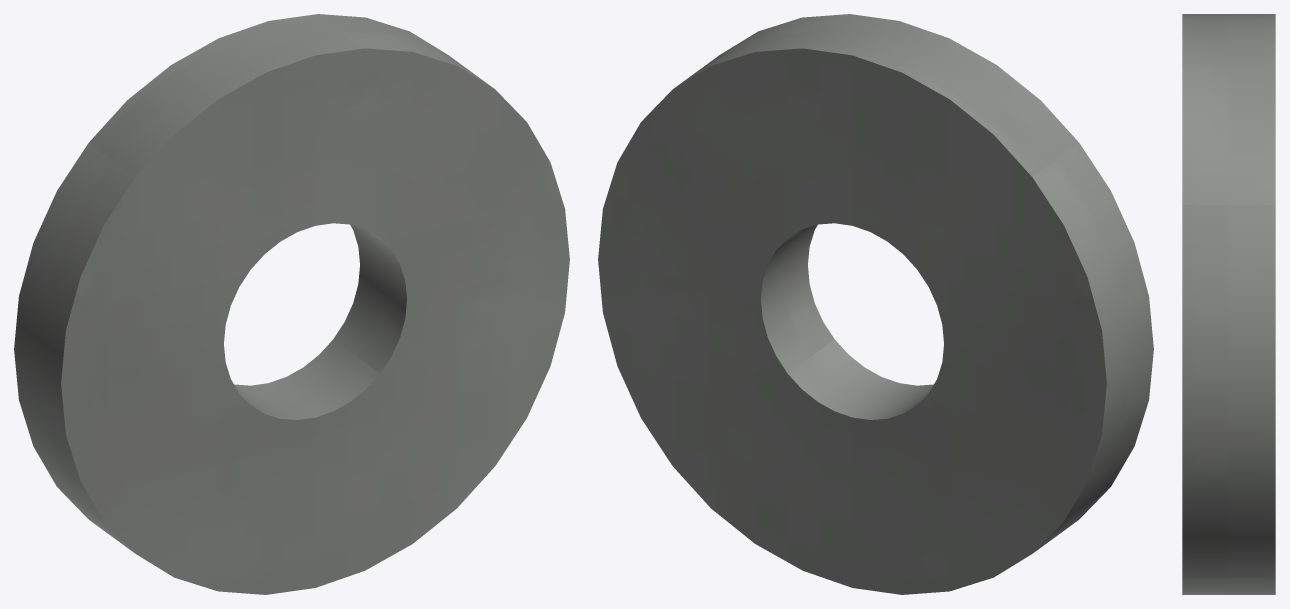
Rendered from EST-ARM-003_lod1.glb.
The picture shows the model from 3 angles, left to right: view 1: azimuth 30°, elevation 25°; view 2: azimuth 150°, elevation 25°; view 3: azimuth 270°, elevation 25°; orthographic projection.
Parts seen in each view (by area): view 1: EST-ARM-003_rolete; view 2: EST-ARM-003_rolete; view 3: EST-ARM-003_rolete.
Part boxes in pixels (x1=…): EST-ARM-003_rolete: x1=14, y1=14, x2=569, y2=594; EST-ARM-003_rolete: x1=598, y1=14, x2=1153, y2=594; EST-ARM-003_rolete: x1=1182, y1=14, x2=1275, y2=594.
Bounding box in the file's own units: 0.05 × 0.05 × 0.008.
Materials: 1 (1 with a texture image).
